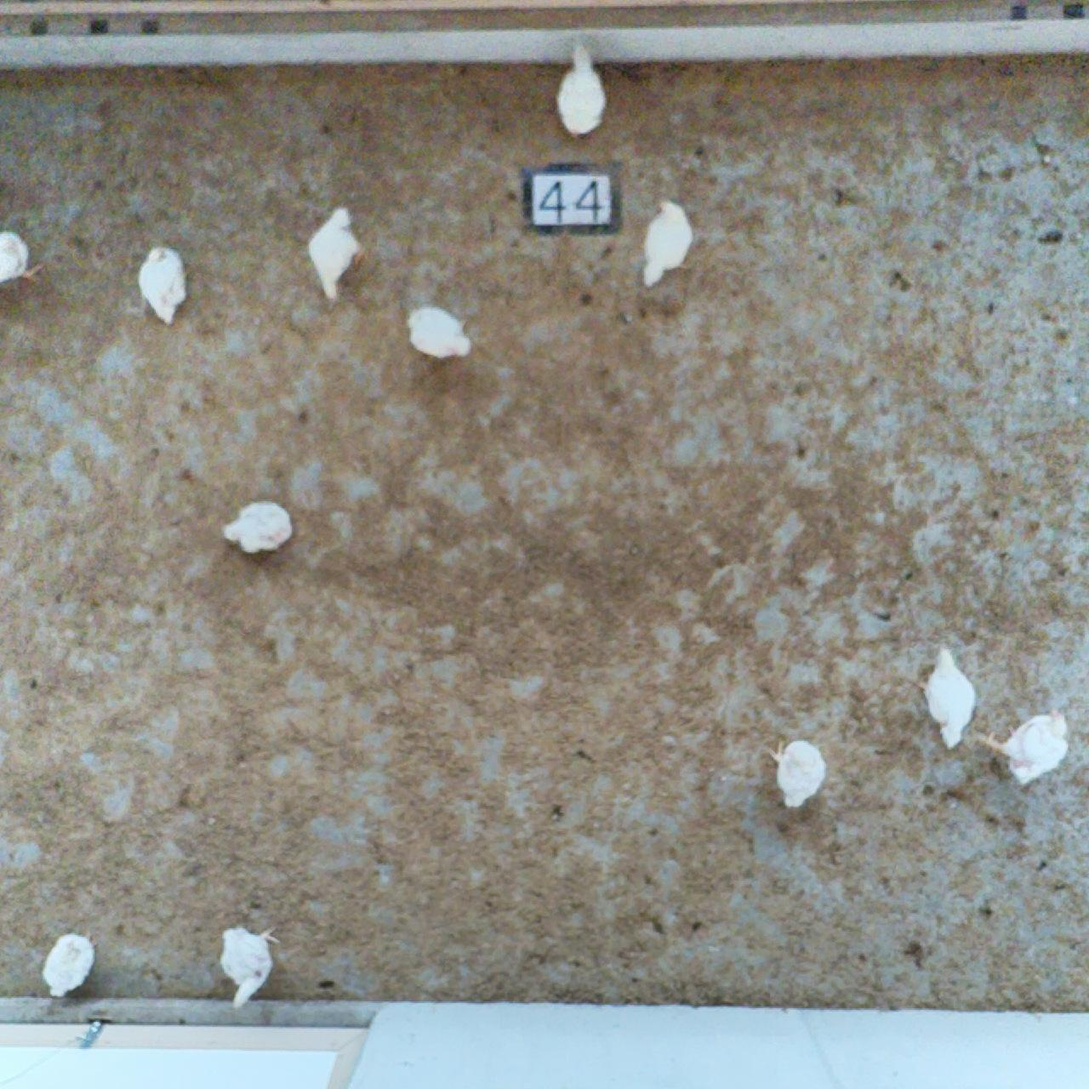chicken: (972, 707, 1071, 789), (916, 647, 978, 749), (308, 207, 370, 302), (221, 925, 287, 1008), (556, 44, 608, 138), (640, 198, 694, 288), (220, 500, 295, 556), (136, 245, 188, 325), (767, 738, 828, 806), (42, 926, 97, 996), (406, 305, 472, 360), (1, 228, 48, 283)
